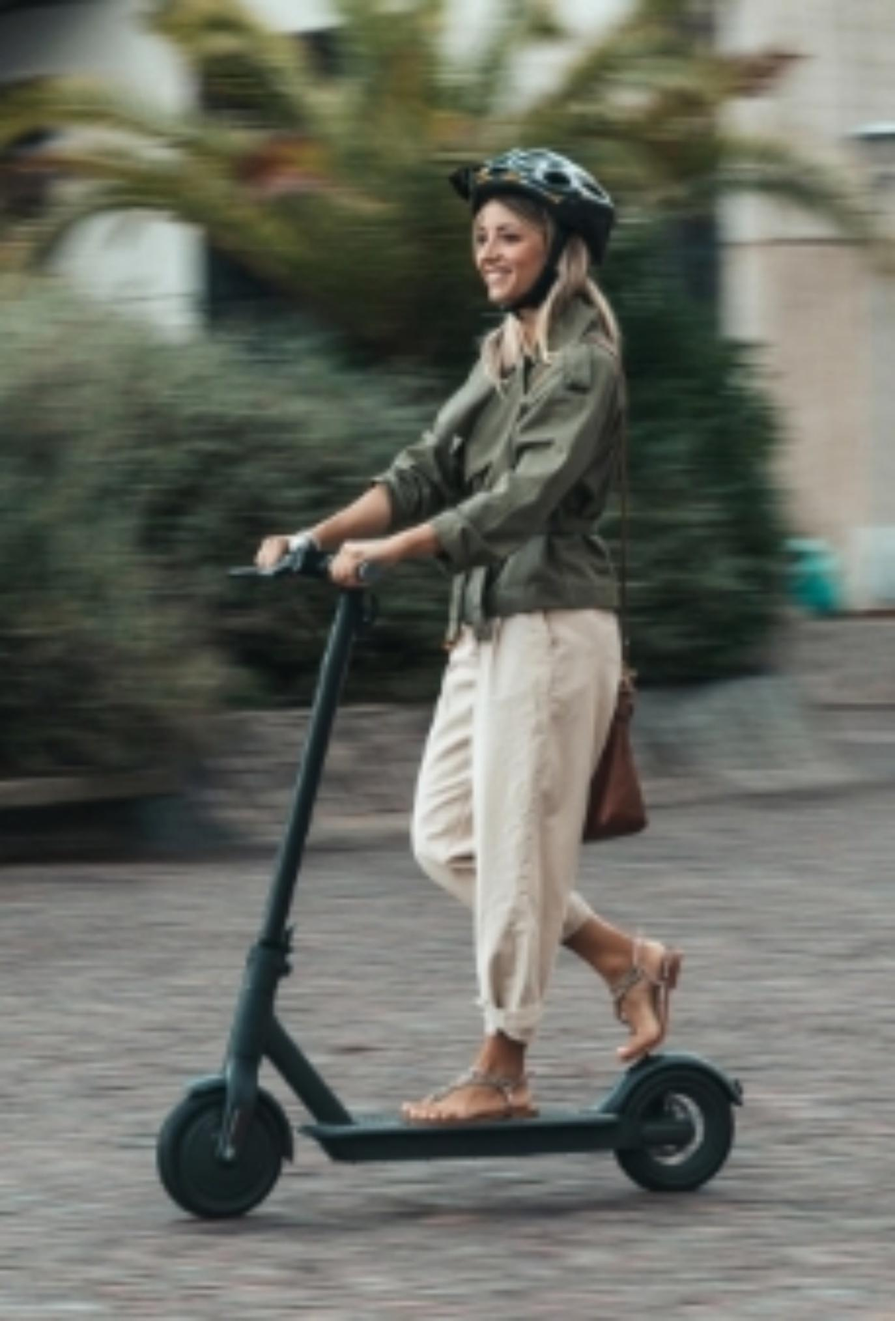helmet: (447, 137, 612, 316)
human: (251, 148, 674, 1135)
kickboard: (152, 1069, 743, 1229)
